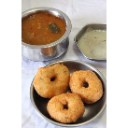vada: (33, 65, 70, 97), (47, 93, 84, 123), (71, 69, 102, 104)
